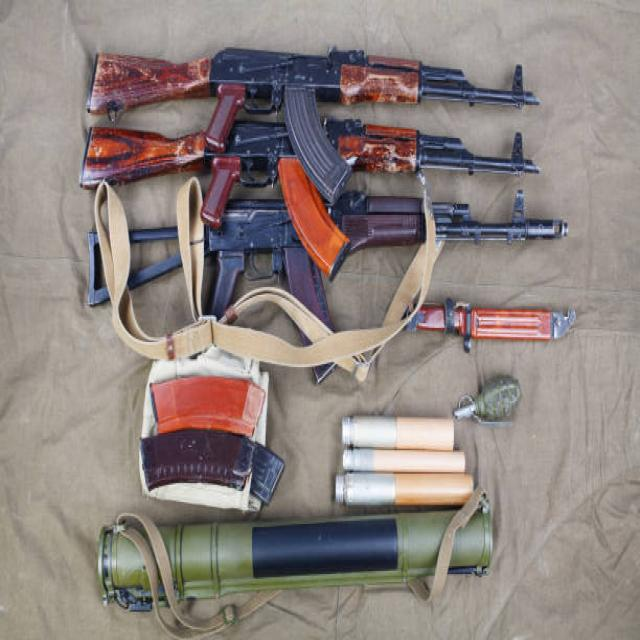grenade: (453, 370, 531, 432)
